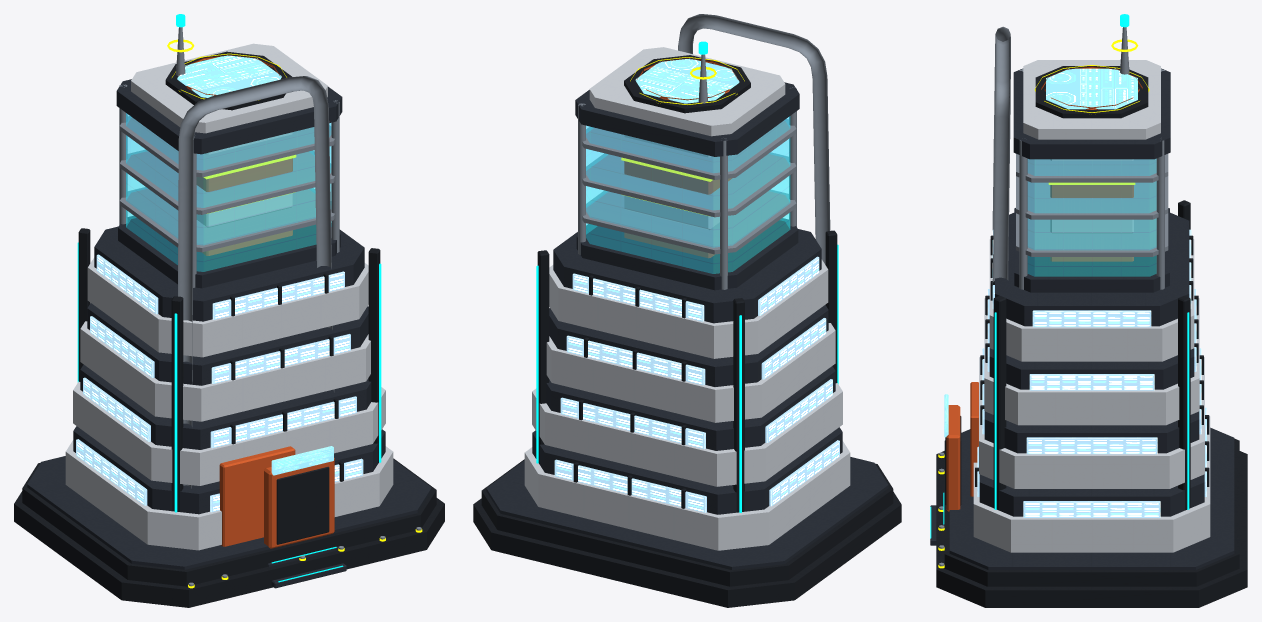
Rendered from bldg_13_r1_01.glb.
The picture shows the model from 3 angles, left to right: view 1: azimuth 30°, elevation 25°; view 2: azimuth 150°, elevation 25°; view 3: azimuth 270°, elevation 25°; orthographic projection.
Parts seen in each view (by area): view 1: Bldg13_C01_aero_white, Bldg13_C01_carbon_slate, Bldg13_C01_gunmetal, Bldg13_C01_steel_machined, Bldg13_C01_glass_cyan, Bldg13_C01_window_lit, Bldg13_C01_accent_orange, Bldg13_C01_marquee, Bldg13_C01_led_cyan, Bldg13_C01_led_amber; view 2: Bldg13_C01_aero_white, Bldg13_C01_carbon_slate, Bldg13_C01_gunmetal, Bldg13_C01_steel_machined, Bldg13_C01_glass_cyan, Bldg13_C01_window_lit, Bldg13_C01_marquee, Bldg13_C01_accent_orange, Bldg13_C01_led_cyan, Bldg13_C01_led_amber; view 3: Bldg13_C01_aero_white, Bldg13_C01_carbon_slate, Bldg13_C01_gunmetal, Bldg13_C01_steel_machined, Bldg13_C01_glass_cyan, Bldg13_C01_window_lit, Bldg13_C01_accent_orange, Bldg13_C01_marquee, Bldg13_C01_led_cyan, Bldg13_C01_led_amber.
Part boxes in pixels (x1,y1,x2,y2): Bldg13_C01_aero_white: [65, 43, 393, 550]; Bldg13_C01_carbon_slate: [27, 79, 431, 588]; Bldg13_C01_gunmetal: [14, 51, 444, 607]; Bldg13_C01_steel_machined: [119, 27, 421, 586]; Bldg13_C01_glass_cyan: [126, 113, 331, 271]; Bldg13_C01_window_lit: [76, 254, 363, 512]; Bldg13_C01_accent_orange: [178, 55, 334, 548]; Bldg13_C01_marquee: [177, 55, 333, 475]; Bldg13_C01_led_cyan: [77, 14, 381, 582]; Bldg13_C01_led_amber: [167, 39, 422, 588]; Bldg13_C01_aero_white: [524, 47, 850, 550]; Bldg13_C01_carbon_slate: [486, 82, 888, 569]; Bldg13_C01_gunmetal: [473, 55, 901, 607]; Bldg13_C01_steel_machined: [578, 14, 830, 289]; Bldg13_C01_glass_cyan: [586, 116, 790, 273]; Bldg13_C01_window_lit: [554, 256, 839, 512]; Bldg13_C01_marquee: [635, 58, 739, 103]; Bldg13_C01_accent_orange: [624, 58, 737, 258]; Bldg13_C01_led_cyan: [536, 41, 838, 512]; Bldg13_C01_led_amber: [621, 57, 744, 215]; Bldg13_C01_aero_white: [973, 60, 1210, 552]; Bldg13_C01_carbon_slate: [930, 68, 1234, 569]; Bldg13_C01_gunmetal: [936, 66, 1247, 607]; Bldg13_C01_steel_machined: [939, 26, 1168, 566]; Bldg13_C01_glass_cyan: [1028, 159, 1156, 276]; Bldg13_C01_window_lit: [977, 229, 1206, 517]; Bldg13_C01_accent_orange: [946, 66, 1142, 511]; Bldg13_C01_marquee: [944, 68, 1137, 437]; Bldg13_C01_led_cyan: [930, 14, 1189, 538]; Bldg13_C01_led_amber: [938, 39, 1149, 568].
Size of the model in its own units: 12.5 by 18.52 by 10.71.
10 materials, 10 textured.
